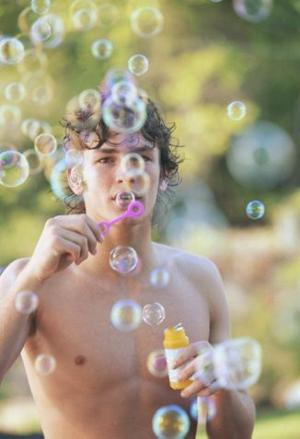person: (2, 88, 255, 439)
